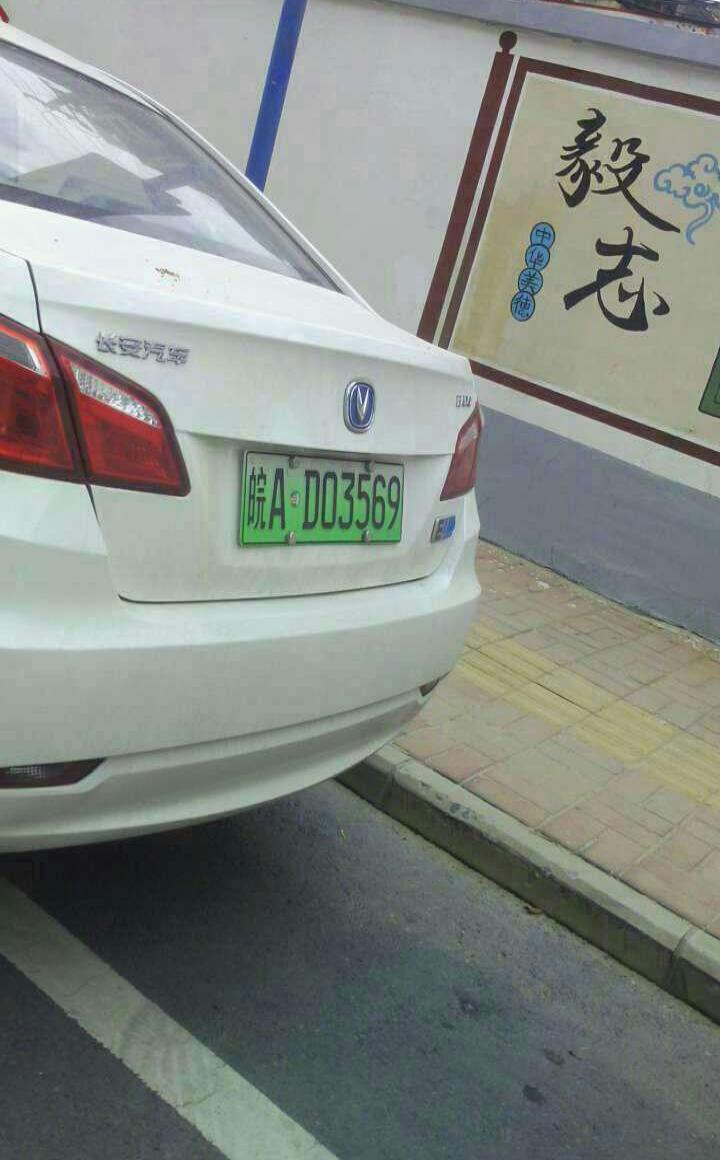car_id: (236, 453, 413, 547)
